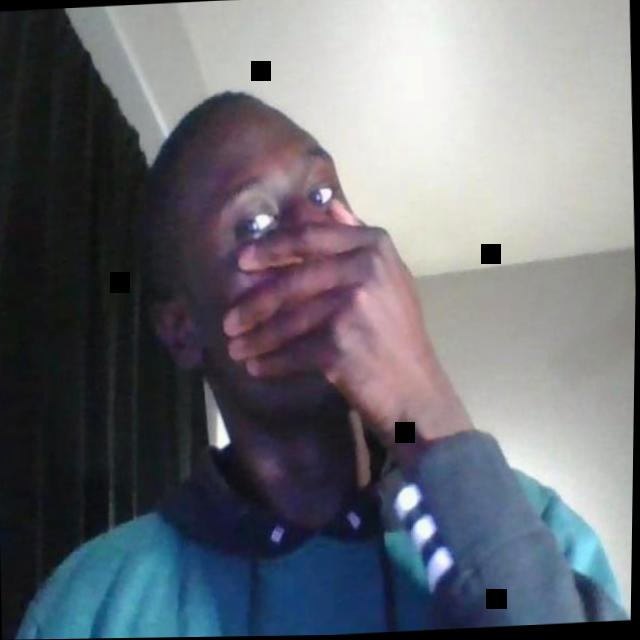NO-Mask: (177, 122, 374, 432)
